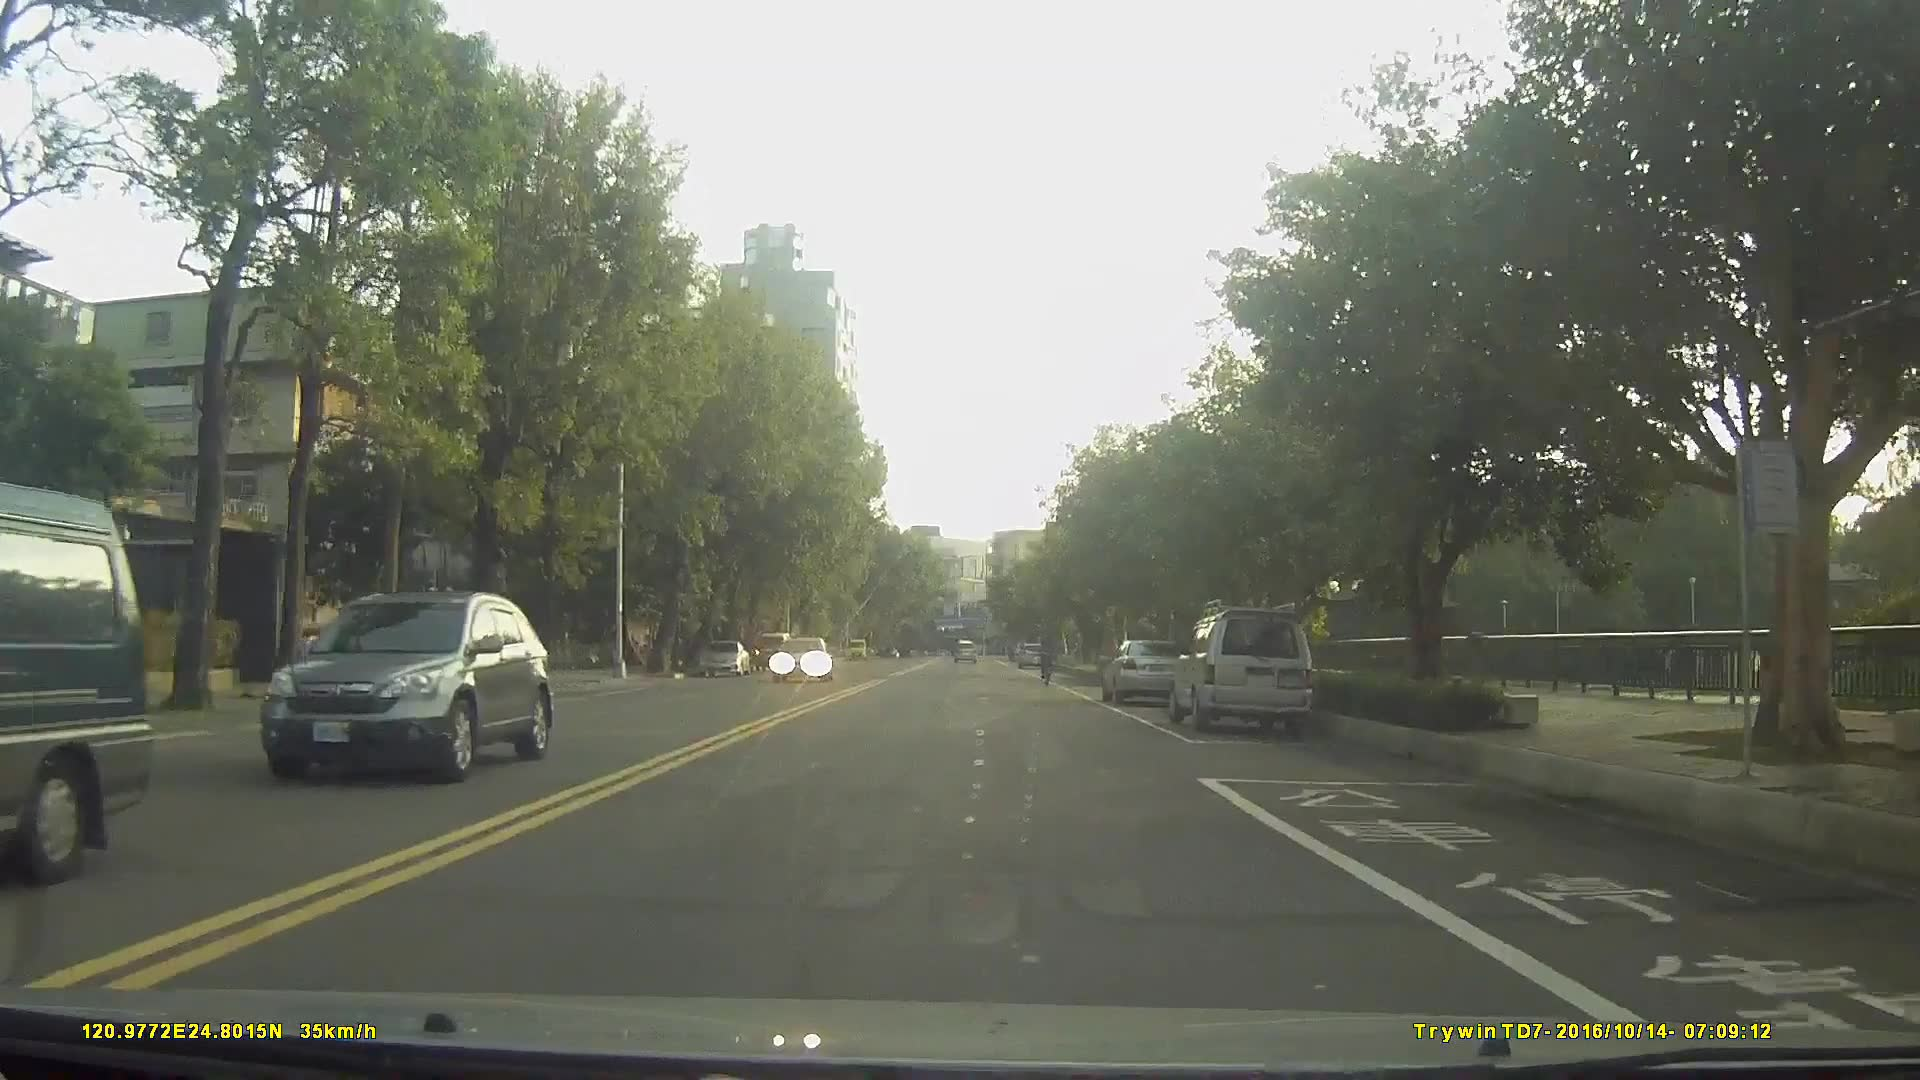rider: (1037, 628, 1057, 688)
vehicle: (0, 477, 152, 890), (261, 589, 552, 785), (1168, 606, 1315, 736), (1102, 633, 1190, 704), (768, 633, 832, 684), (697, 634, 751, 674), (752, 630, 793, 671), (1017, 639, 1046, 669), (950, 634, 978, 660)
